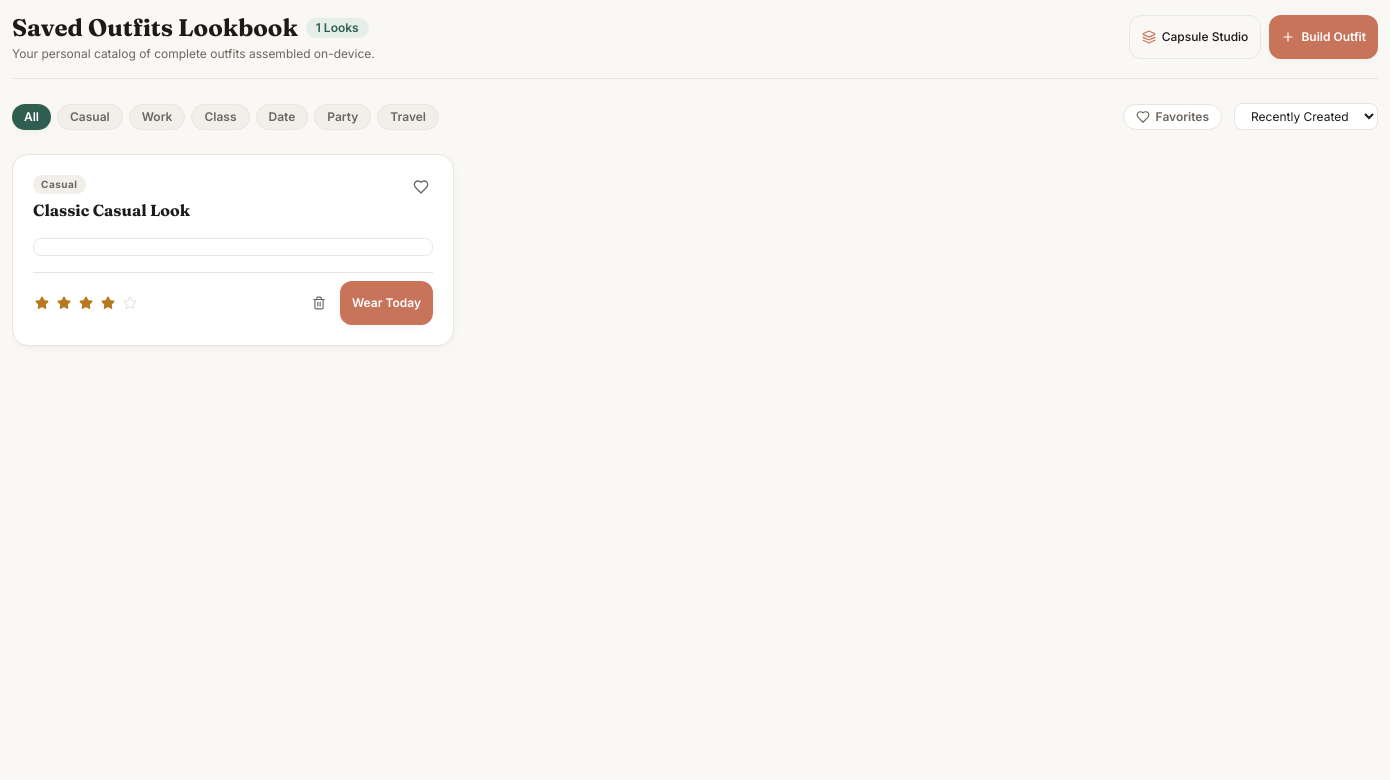
Test: Phase 6: Outfit Studio, Lookbook Gallery & Capsule Wardrobe › LookbookGallery › toggles favorites and updates rating on an outfit
The image size is (1390, 780).
Expected: the heading "Classic Casual Look" is shown, [33,198,190,222]
Note: Favorite button
Click the button named "favorite outfit". click: {"x": 421, "y": 187}
box: [409,175,433,199]
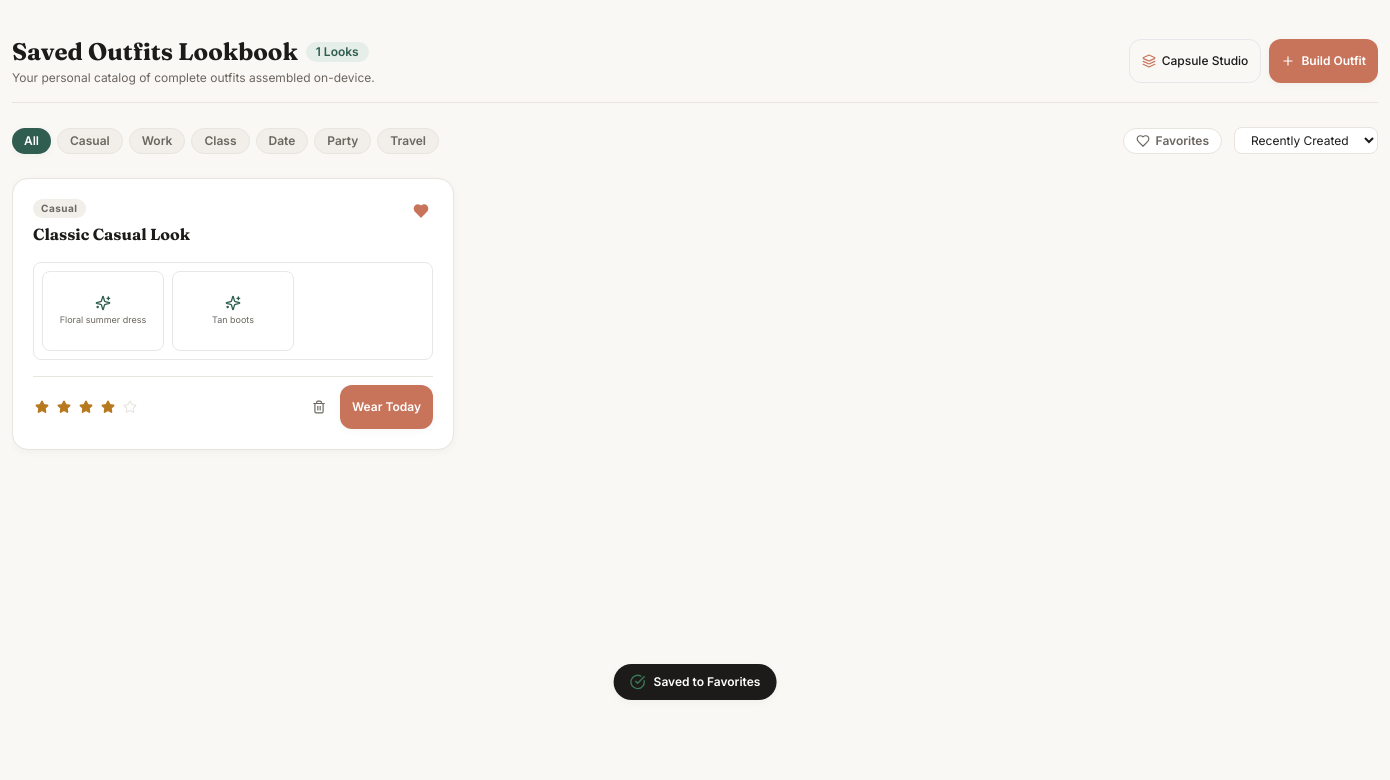
Now the text "Saved to Favorites" is shown, box [654,674,760,690]
